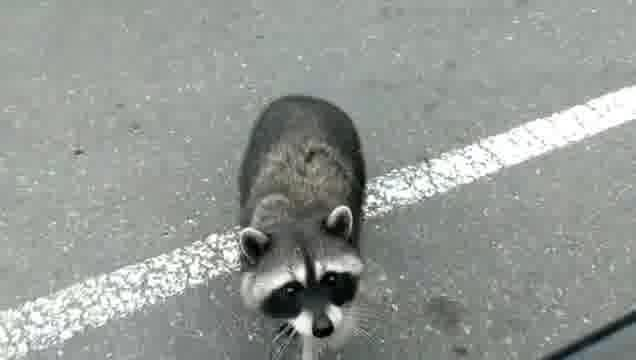raccoon: (236, 93, 369, 360)
